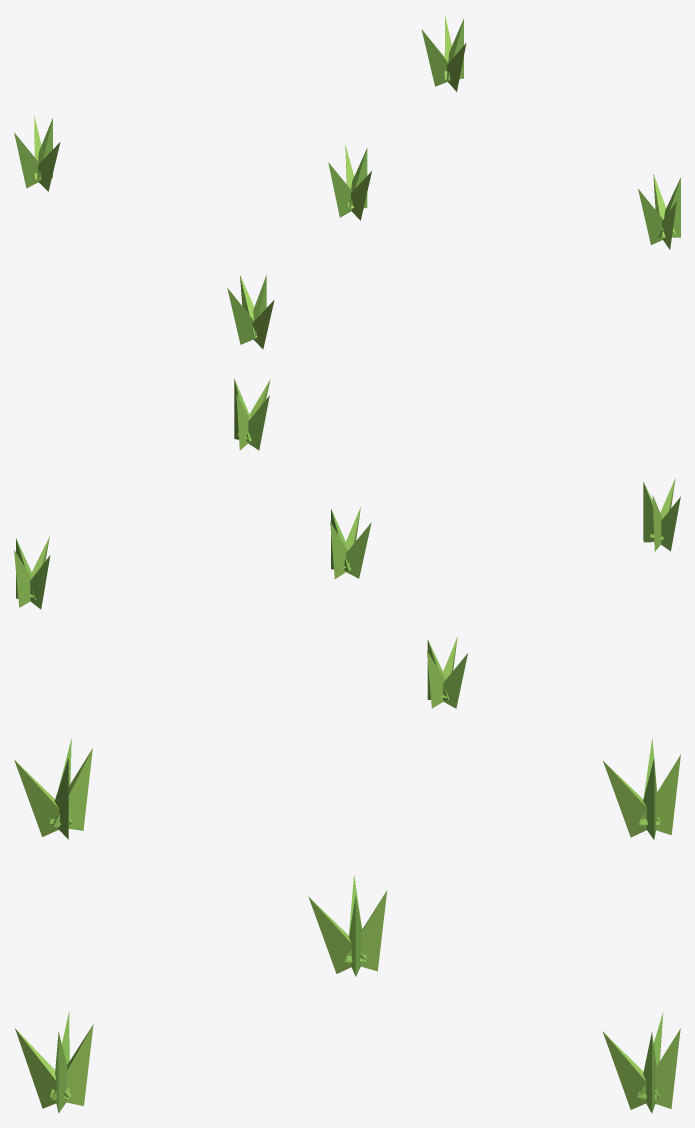
File: grass-1.glb
3 renders of one model, top to bottom at view 1: azimuth 30°, elevation 25°; view 2: azimuth 150°, elevation 25°; view 3: azimuth 270°, elevation 25°, orthographic. The views are drawn at different scales.
Visible parts, largest first — view 1: grass-1; view 2: grass-1; view 3: grass-1.
Boxes of the visible parts, x1,y1,x2,y2 form: grass-1: [14, 15, 680, 349]; grass-1: [14, 378, 680, 708]; grass-1: [14, 738, 680, 1113].
Bounding box in the file's own units: 0.4827 × 0.0667 × 0.4534.
Materials: 1 (1 with a texture image).
